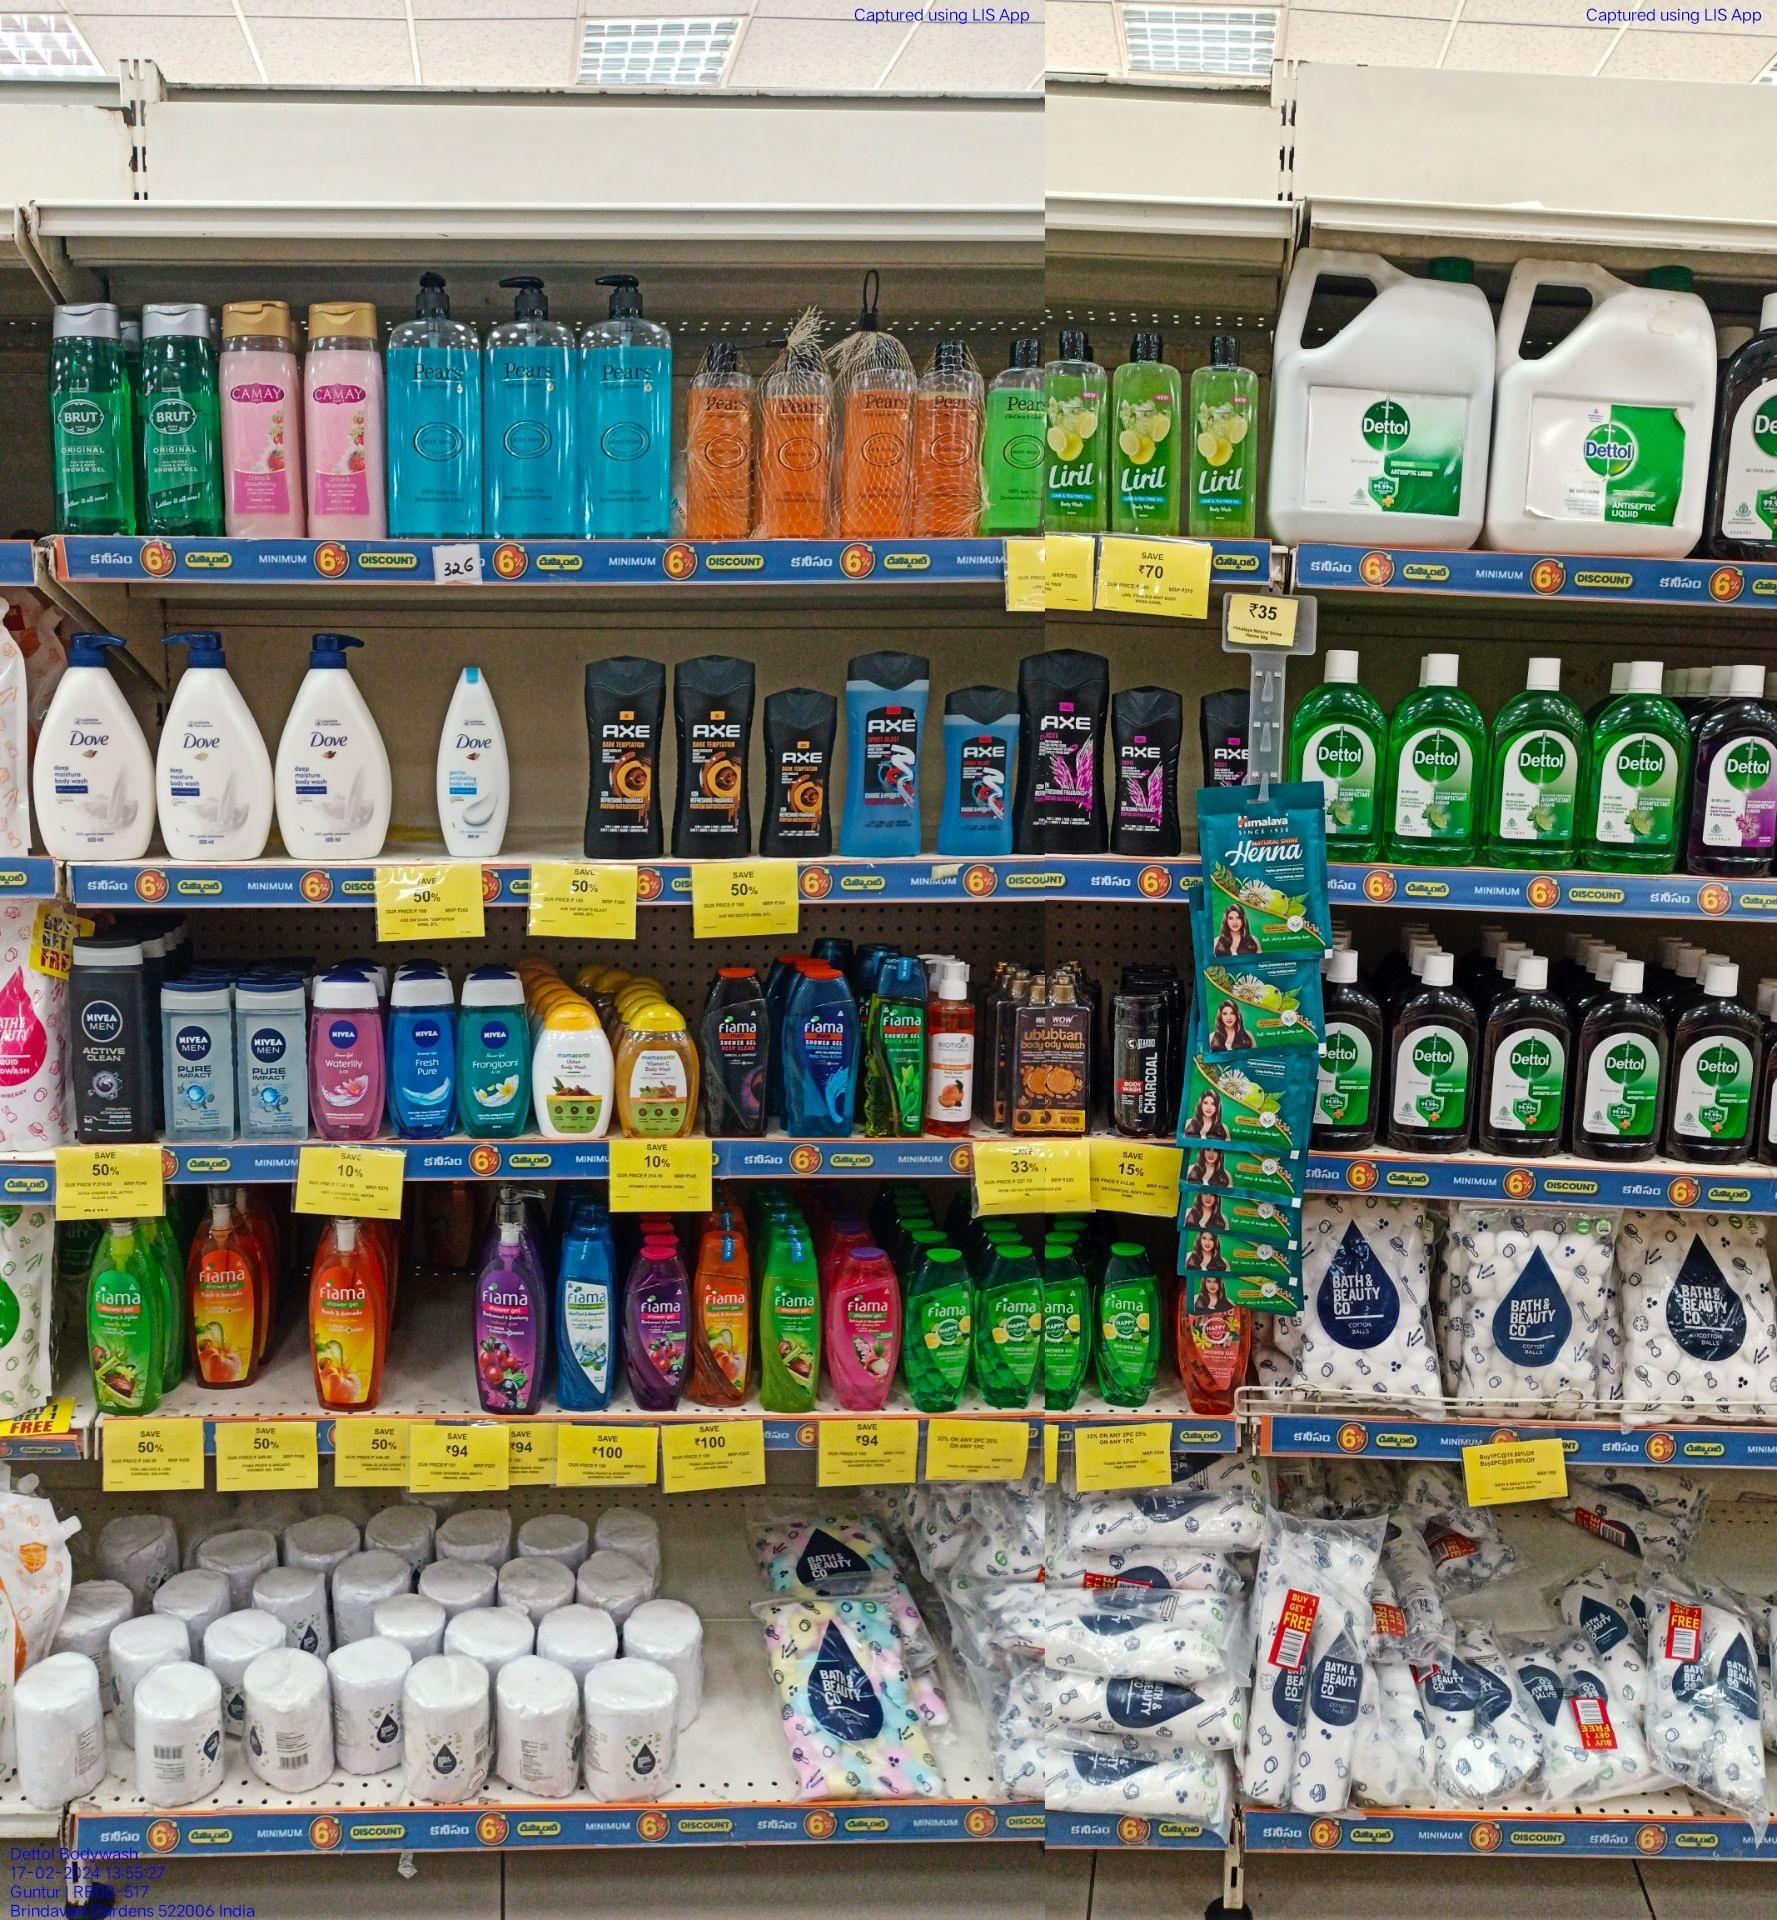Dove_Gentle_Exfoliating_Body_Wash_250ML: (442, 659, 512, 860)
Fiama_Shower_Gel_Lemongrass_and_Jojoba_250ML: (765, 1238, 820, 1412)
Fiama_Shower_Gel_Patchouli_and_Macadamia_250ML: (827, 1248, 897, 1415)
Fiama_Shower_Gel_Peach_and_Avocado_250ML: (693, 1226, 746, 1402)
Nivea_Shower_Gel_Frangipani_and_Oil_250ML: (463, 972, 529, 1134)
Nivea_Shower_Gel_Waterlily_and_Oil_250ML: (308, 972, 388, 1139)
